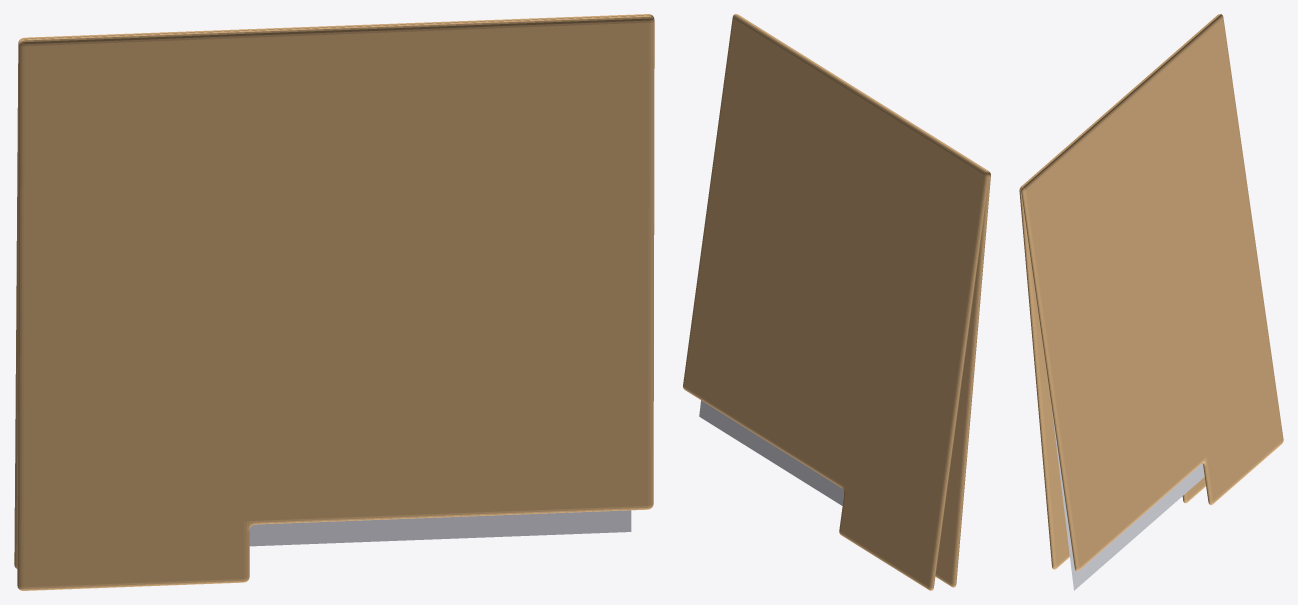
Rendered from folder_animation.fbx.
The picture shows the model from 3 angles, left to right: view 1: azimuth 30°, elevation 25°; view 2: azimuth 150°, elevation 25°; view 3: azimuth 270°, elevation 25°; orthographic projection. The views are drawn at different scales.
Visible parts, largest first — view 1: Plane.003; view 2: Plane.003; view 3: Plane.003.
Boxes of the visible parts, x1,y1,x2,y2 form: Plane.003: (14,14,654,590); Plane.003: (683,14,990,590); Plane.003: (1019,14,1283,590).
Bounding box in the file's own units: 166 × 172 × 97.8.
